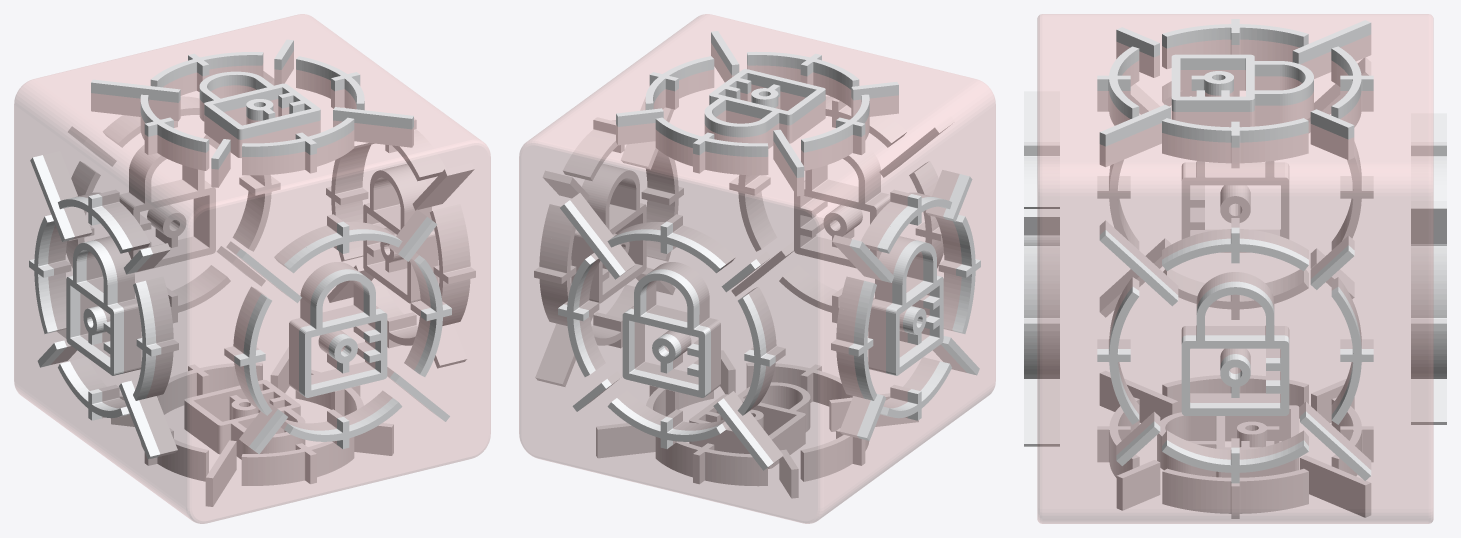
File: secretsmanager.glb
The picture shows the model from 3 angles, left to right: view 1: azimuth 30°, elevation 25°; view 2: azimuth 150°, elevation 25°; view 3: azimuth 270°, elevation 25°; orthographic projection. The views are drawn at different scales.
Parts seen in each view (by area): view 1: Glass, Glyph Left, Glyph Top, Glyph Front, Glyph Right, Glyph Bottom, Glyph Back; view 2: Glass, Glyph Back, Glyph Left, Glyph Top, Glyph Right, Glyph Bottom, Glyph Front; view 3: Glass, Glyph Top, Glyph Right, Glyph Bottom, Glyph Left, Glyph Front, Glyph Back.
Part boxes in pixels (x1,y1,x2,y2): Glass: (14,14,490,523); Glyph Left: (29,151,178,459); Glyph Top: (91,39,413,187); Glyph Front: (224,209,451,454); Glyph Right: (326,98,475,368); Glyph Bottom: (111,347,393,506); Glyph Back: (57,71,280,338); Glass: (519,14,995,523); Glyph Back: (558,193,785,470); Glyph Left: (831,170,980,440); Glyph Top: (616,31,898,196); Glyph Right: (534,97,683,386); Glyph Bottom: (596,350,918,498); Glyph Front: (729,96,954,323); Glass: (1037,14,1433,523); Glyph Top: (1097,19,1373,168); Glyph Right: (1097,218,1373,483); Glyph Bottom: (1097,371,1373,518); Glyph Left: (1097,57,1373,319); Glyph Front: (1024,91,1059,446); Glyph Back: (1411,113,1446,424).
Bounding box in the file's own units: 2.13 × 2.13 × 2.13.
